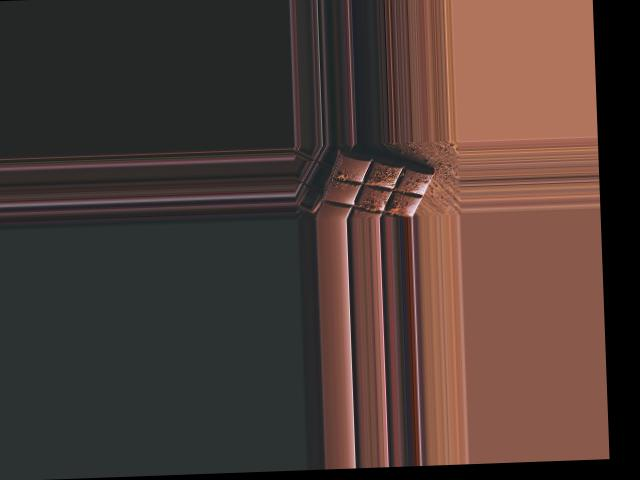chocolate: (312, 147, 441, 219)
